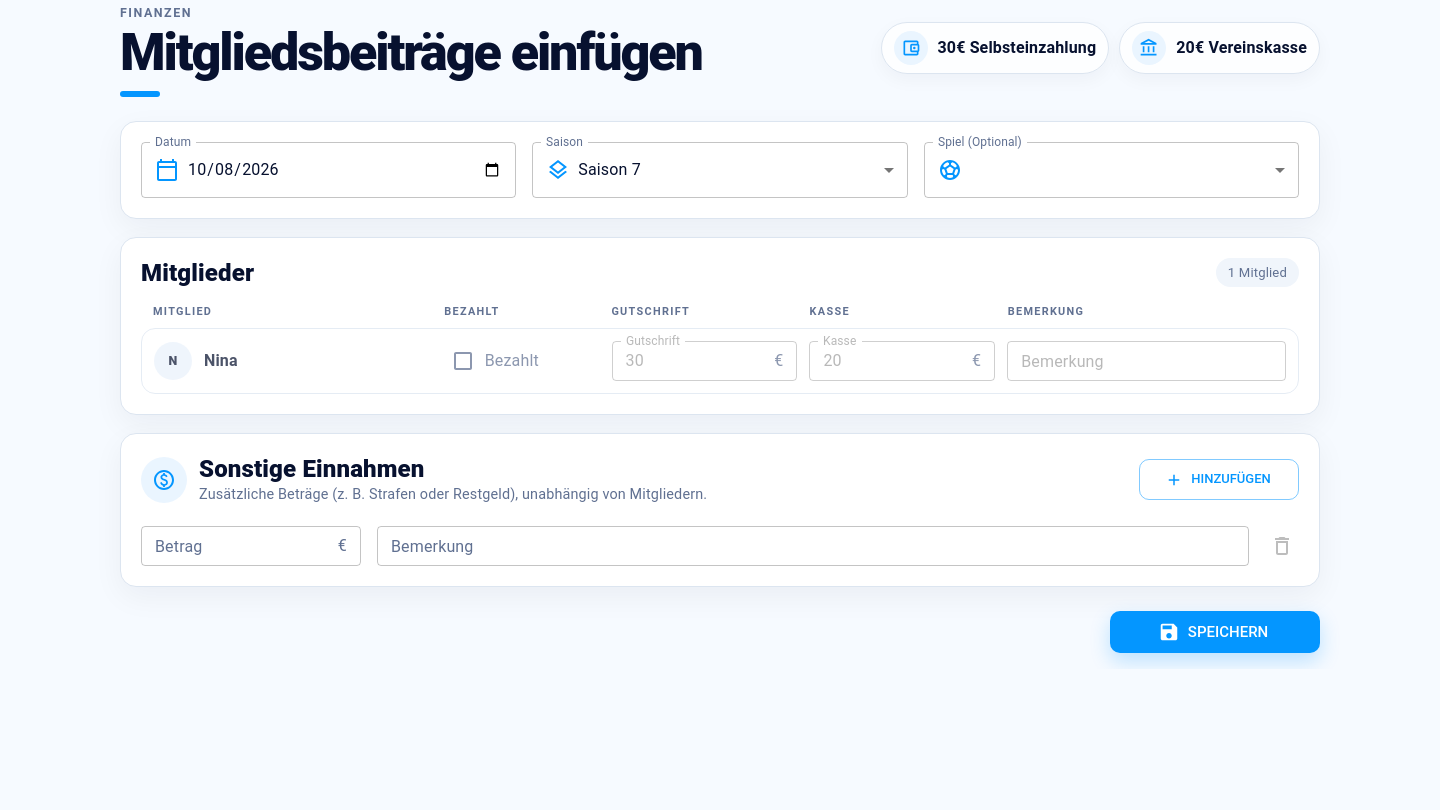
Scenario: BulkDepositPage edit mode › keeps create-mode input and stays on the page when the batch fails
The image size is (1440, 810).
Click the checkbox labelled "Bezahlt" at (492, 361), box 445,343 -> 539,379
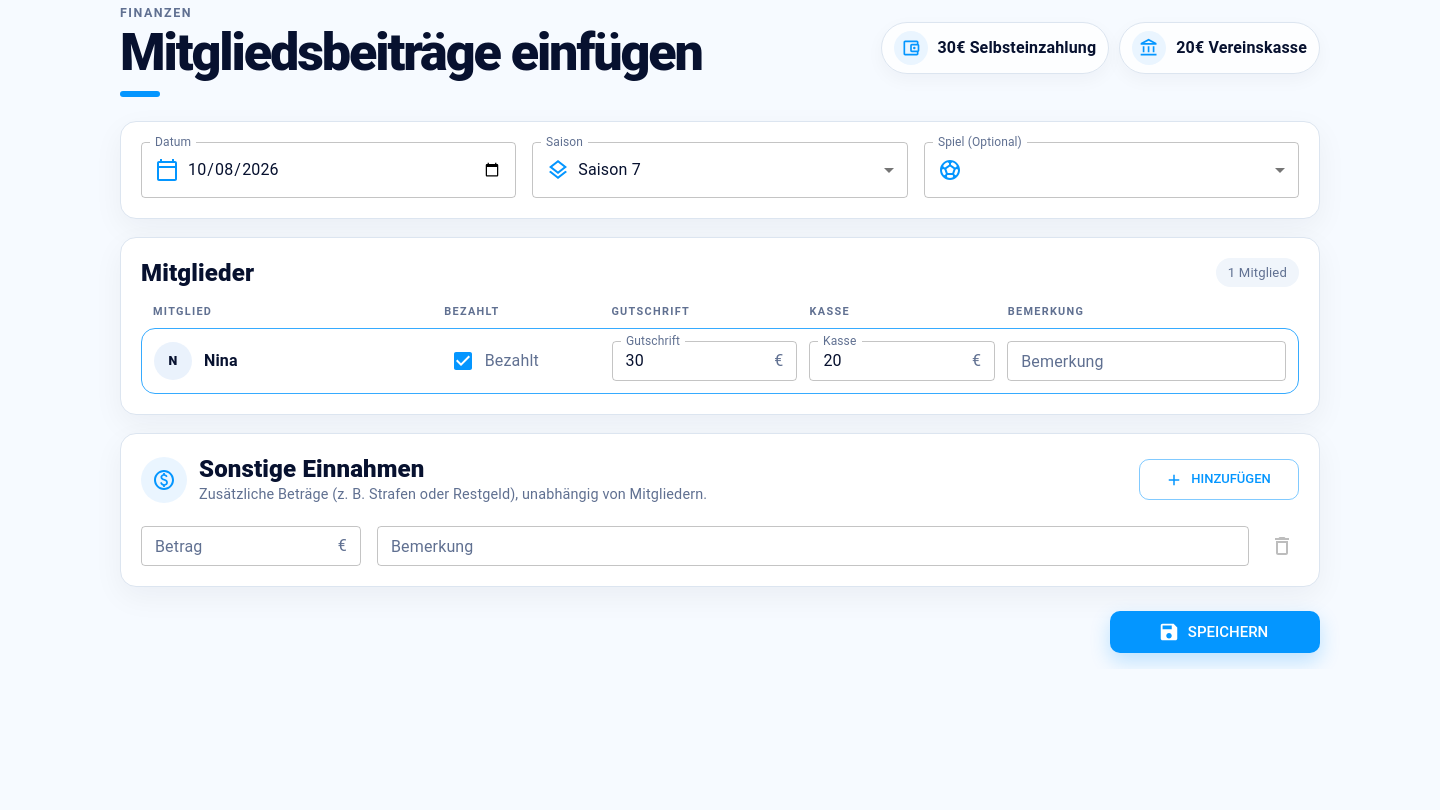
Click the button "Speichern" at (1215, 632), box 1110,610 -> 1320,653
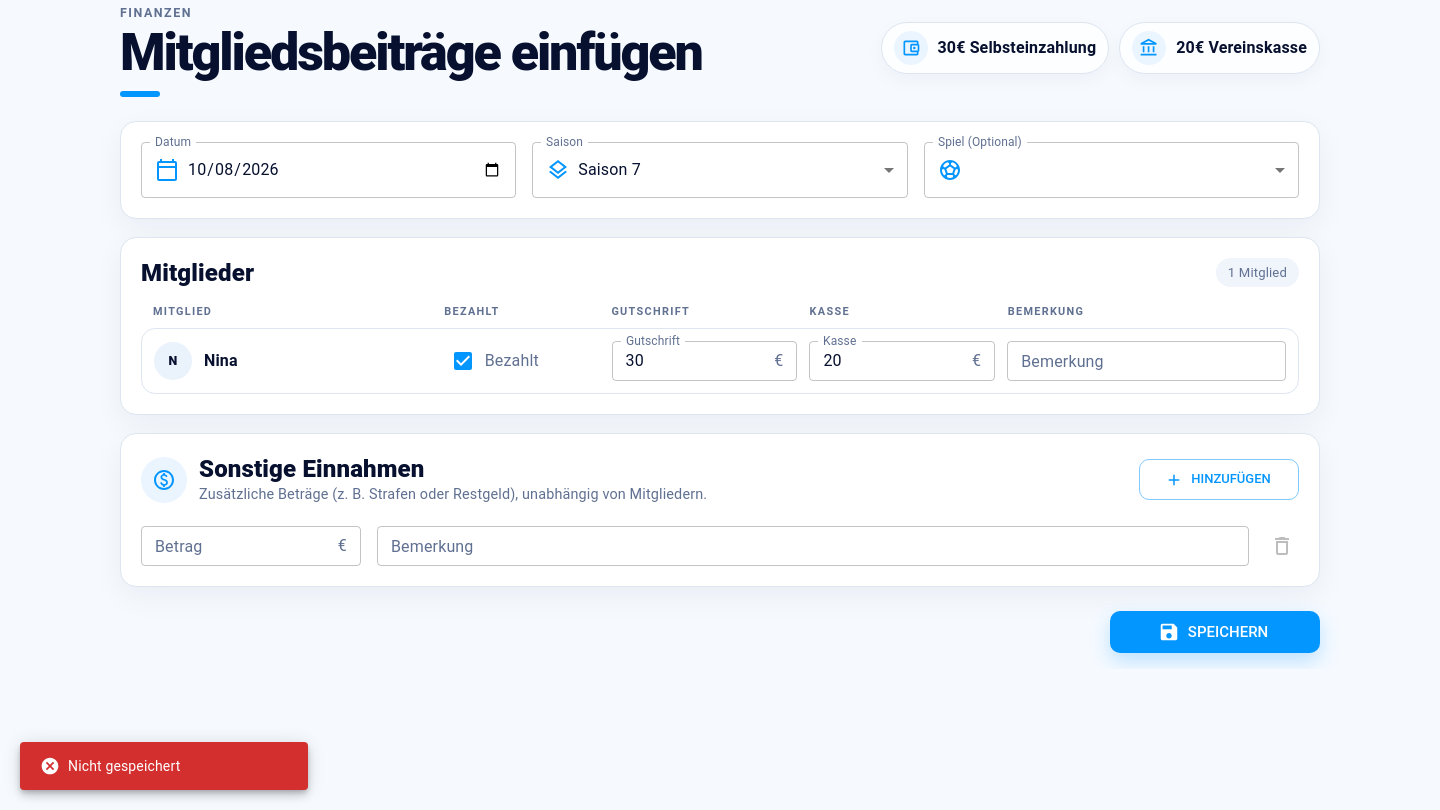
Expected: the number field labelled "Gutschrift" holds "30", 612,341 -> 766,381
Result: the text "Nicht gespeichert" is shown at 40,756 -> 180,776
